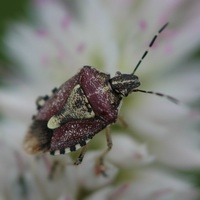insect: (24, 23, 176, 164)
